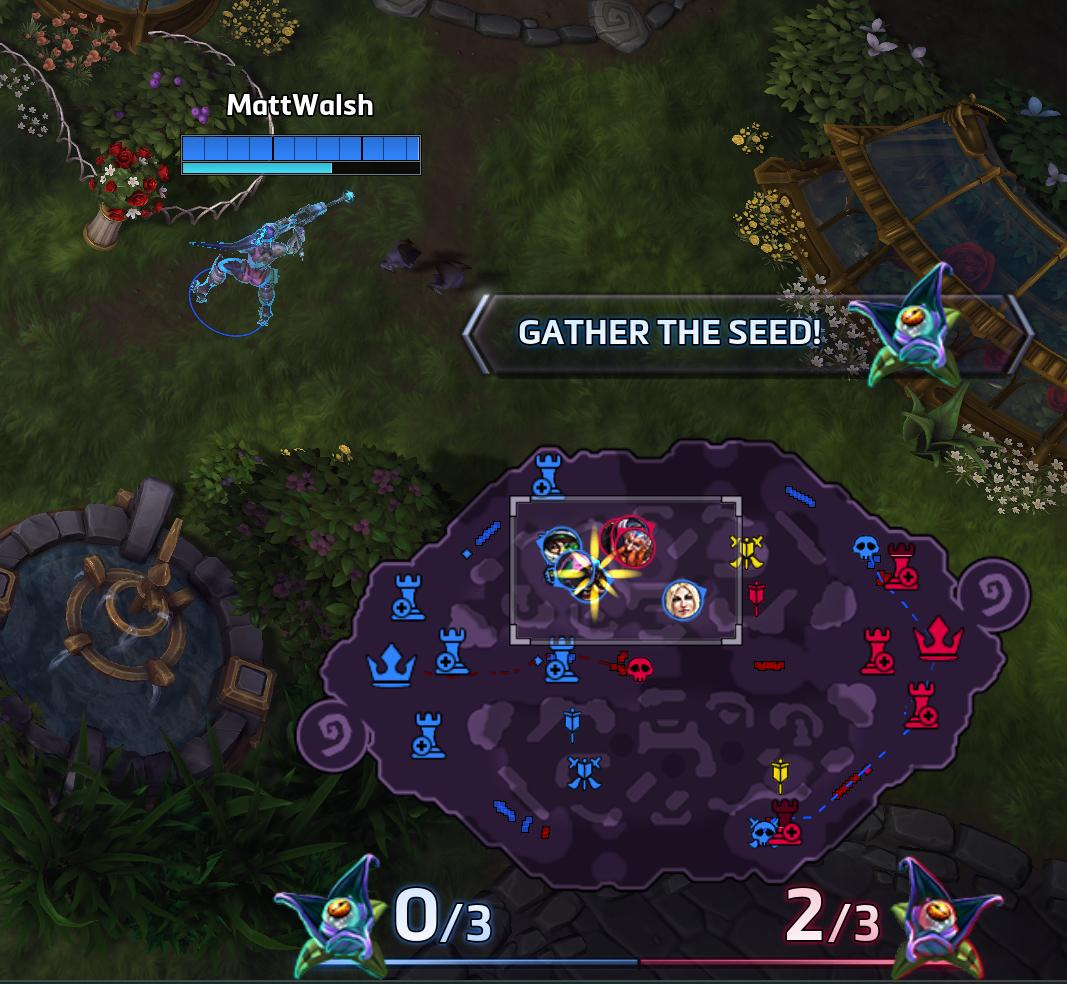blue nexus: (364, 637, 421, 692)
blue player: (538, 525, 584, 574), (661, 577, 705, 621), (551, 550, 596, 592), (572, 564, 615, 604)
blue tower: (540, 633, 584, 686), (410, 710, 446, 760), (389, 572, 424, 623), (435, 626, 469, 676), (533, 454, 567, 500)
red nexus: (910, 612, 968, 665)
red player: (600, 514, 655, 569), (616, 528, 652, 567)
red tower: (856, 622, 898, 679), (765, 794, 807, 848), (881, 538, 921, 592), (902, 678, 942, 732)
